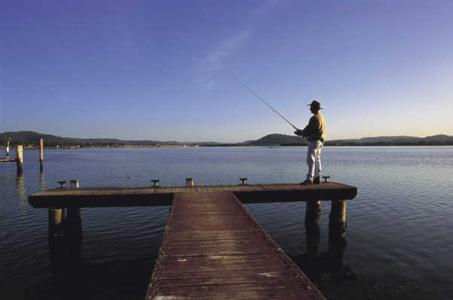person: (295, 100, 327, 186)
